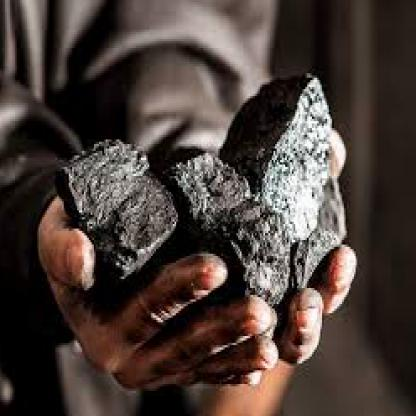Sedimentary_coal: (223, 60, 337, 233), (62, 131, 178, 290)
